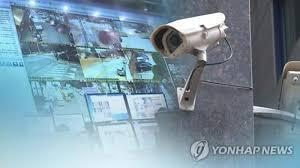Monitor: (142, 11, 250, 119)
